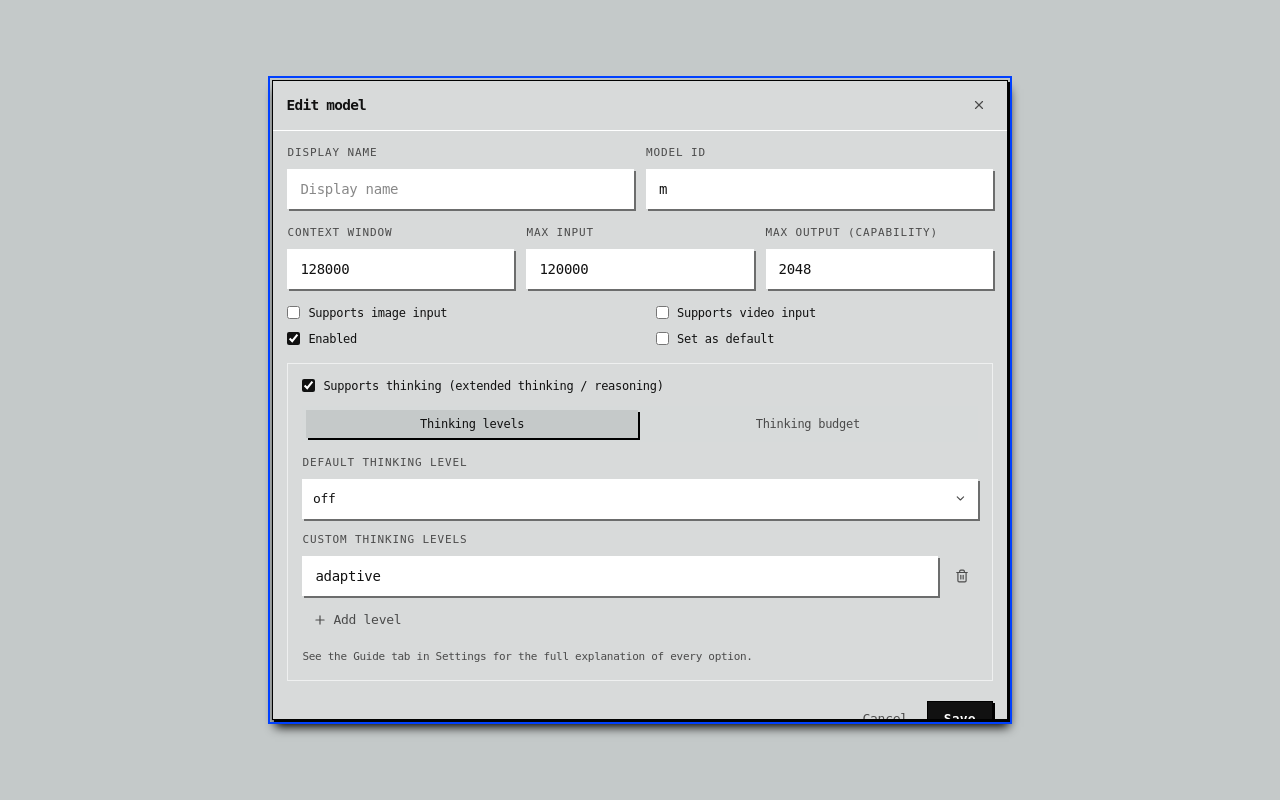
Test: ModelModal thinking cluster › uses vendor-defined levels in place of the standard set
Click the button with aria-label "Default thinking level".
click(324, 498)  # box [302,479,978,519]
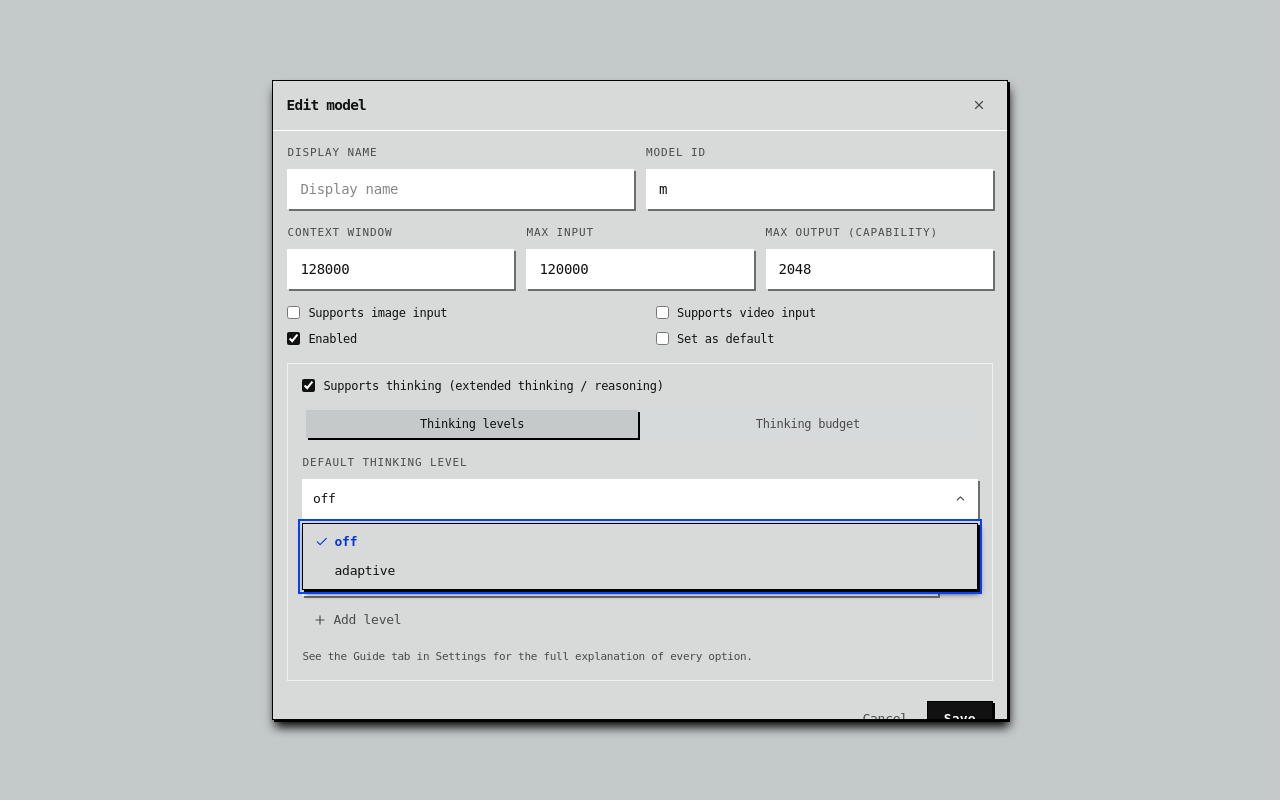
Expected: the options read "off", "adaptive", in this order, [307,528,973,556]; [307,556,973,585]
